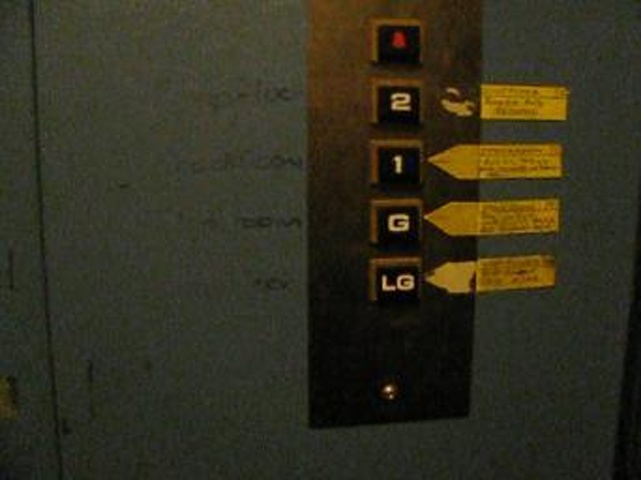1: (368, 140, 425, 191)
2: (368, 76, 425, 127)
G: (368, 196, 425, 247)
LG: (367, 254, 424, 305)
alarm: (367, 13, 425, 74)
